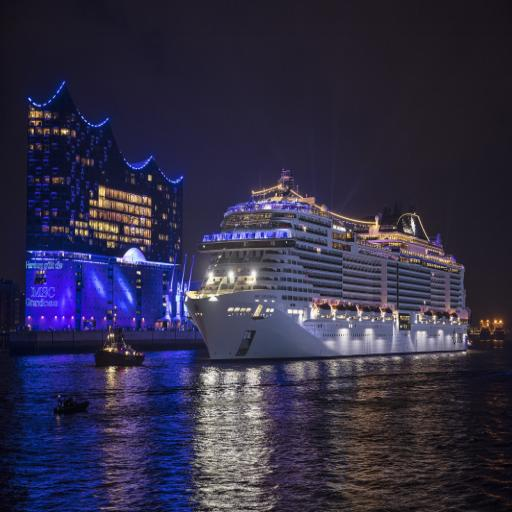cruises: (183, 167, 476, 375)
